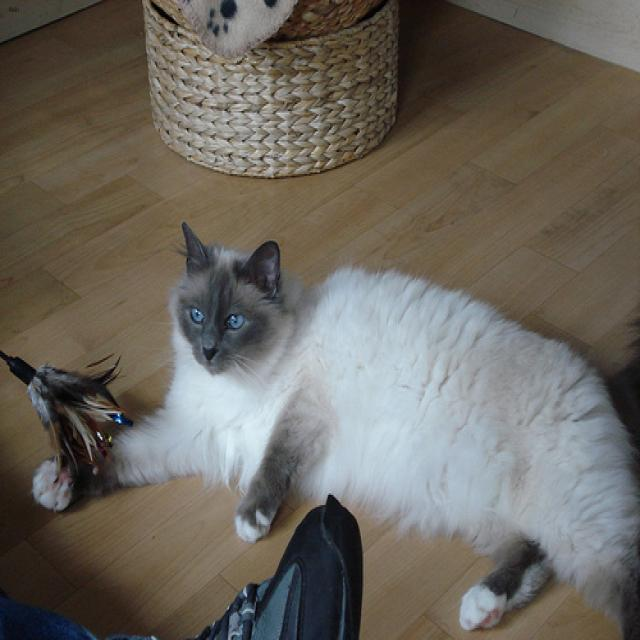Birman: (157, 222, 300, 407)
